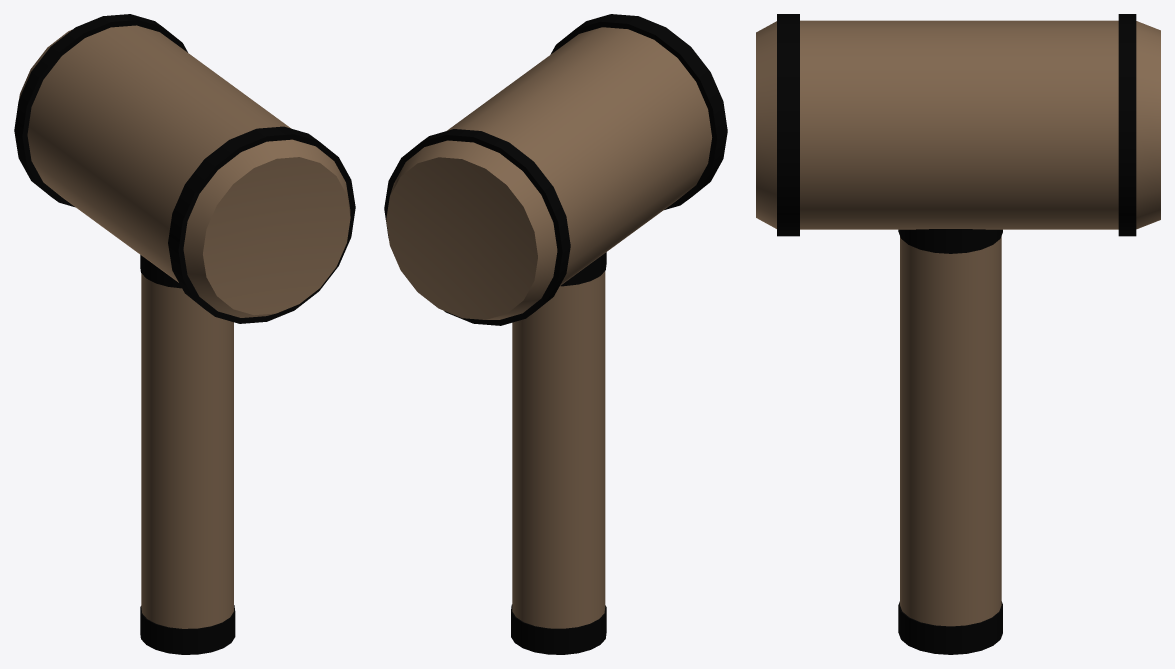
Rendered from Hammer-Lee.fbx.
3 views of the same model, side by side, from view 1: azimuth 30°, elevation 25°; view 2: azimuth 150°, elevation 25°; view 3: azimuth 270°, elevation 25° (orthographic). The views are drawn at different scales.
Parts seen in each view (by area): view 1: pCylinder1, pCylinder3, pCylinder5, pCylinder4; view 2: pCylinder1, pCylinder3, pCylinder5, pCylinder4; view 3: pCylinder1, pCylinder3, pCylinder5, pCylinder4.
Boxes of the visible parts, left/top/right/bottom form: pCylinder1: left=14, top=14, right=355, bottom=323; pCylinder3: left=141, top=273, right=233, bottom=628; pCylinder5: left=140, top=605, right=235, bottom=654; pCylinder4: left=140, top=255, right=181, bottom=288; pCylinder1: left=384, top=14, right=727, bottom=325; pCylinder3: left=512, top=271, right=605, bottom=628; pCylinder5: left=511, top=604, right=606, bottom=654; pCylinder4: left=560, top=252, right=606, bottom=286; pCylinder1: left=756, top=14, right=1160, bottom=236; pCylinder3: left=900, top=236, right=1001, bottom=626; pCylinder5: left=898, top=601, right=1002, bottom=654; pCylinder4: left=898, top=229, right=1002, bottom=253.
Size of the model in its own units: 4.75 by 14.25 by 8.58.
